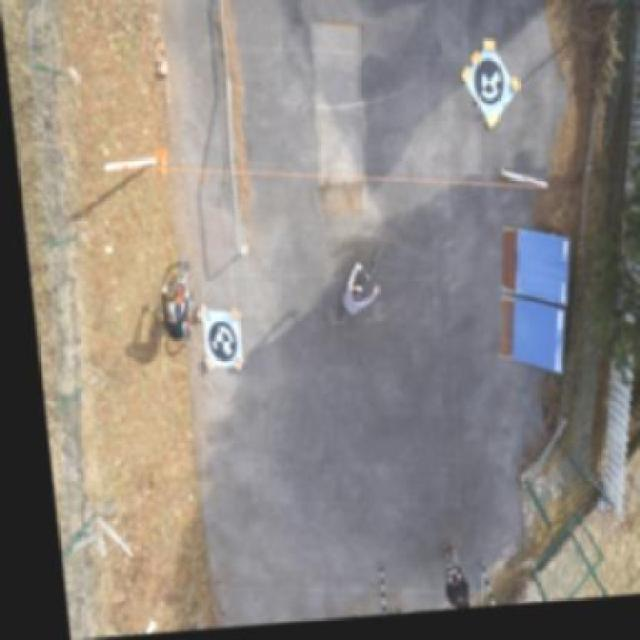Person: (322, 259, 376, 330), (414, 542, 458, 616), (141, 286, 190, 348)
